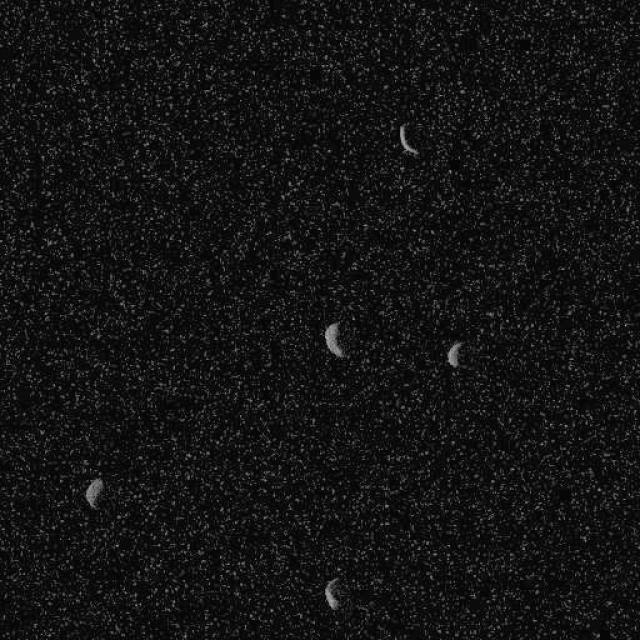D2: (323, 320, 345, 359), (398, 122, 418, 156), (84, 476, 104, 509), (324, 576, 341, 610), (445, 340, 463, 368)
